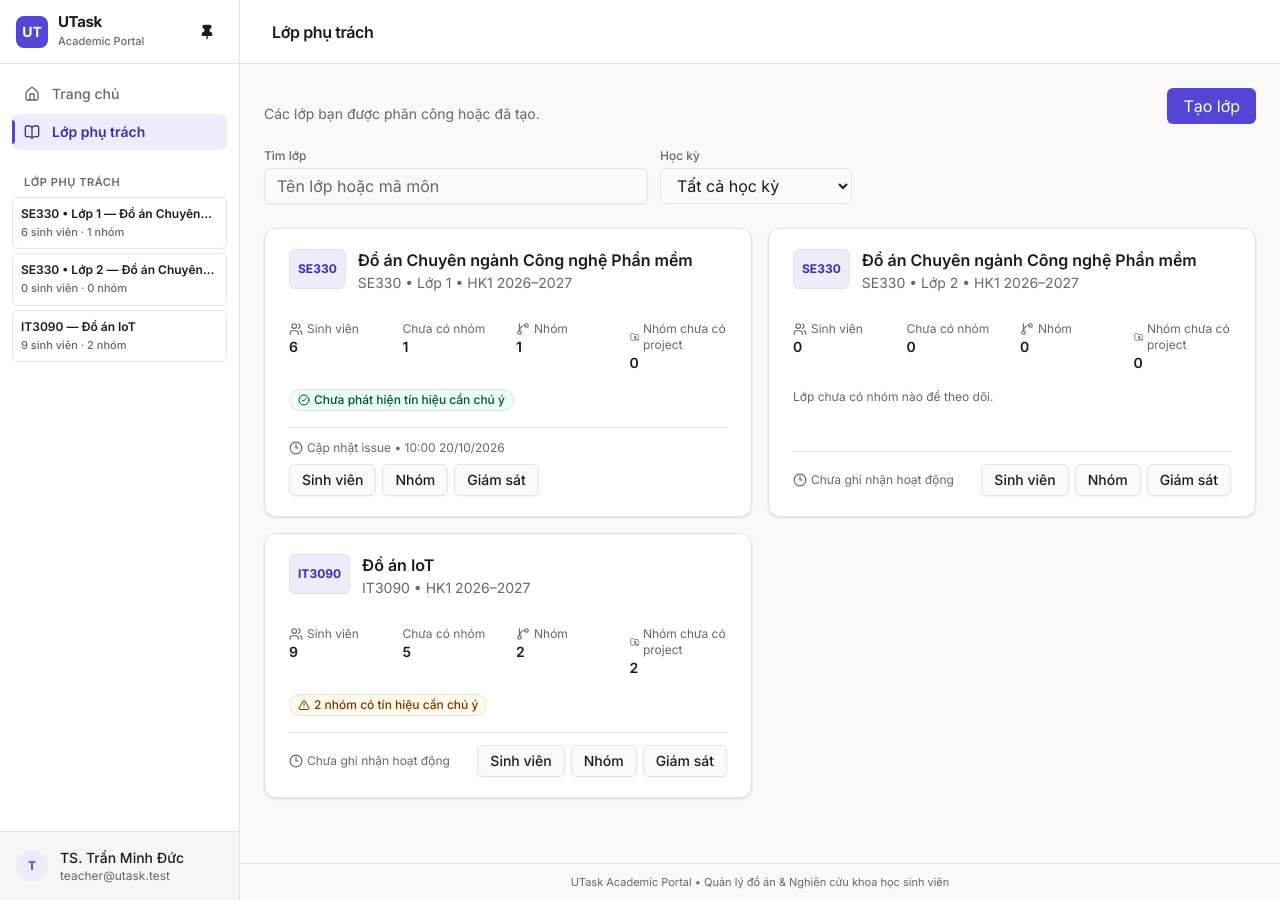
Test: Create class dialog (T03, demo mode) › closes with Hủy and stays on the same page
Click the button "Tạo lớp" at (1212, 106), box x1=1167 y1=88 x2=1256 y2=124
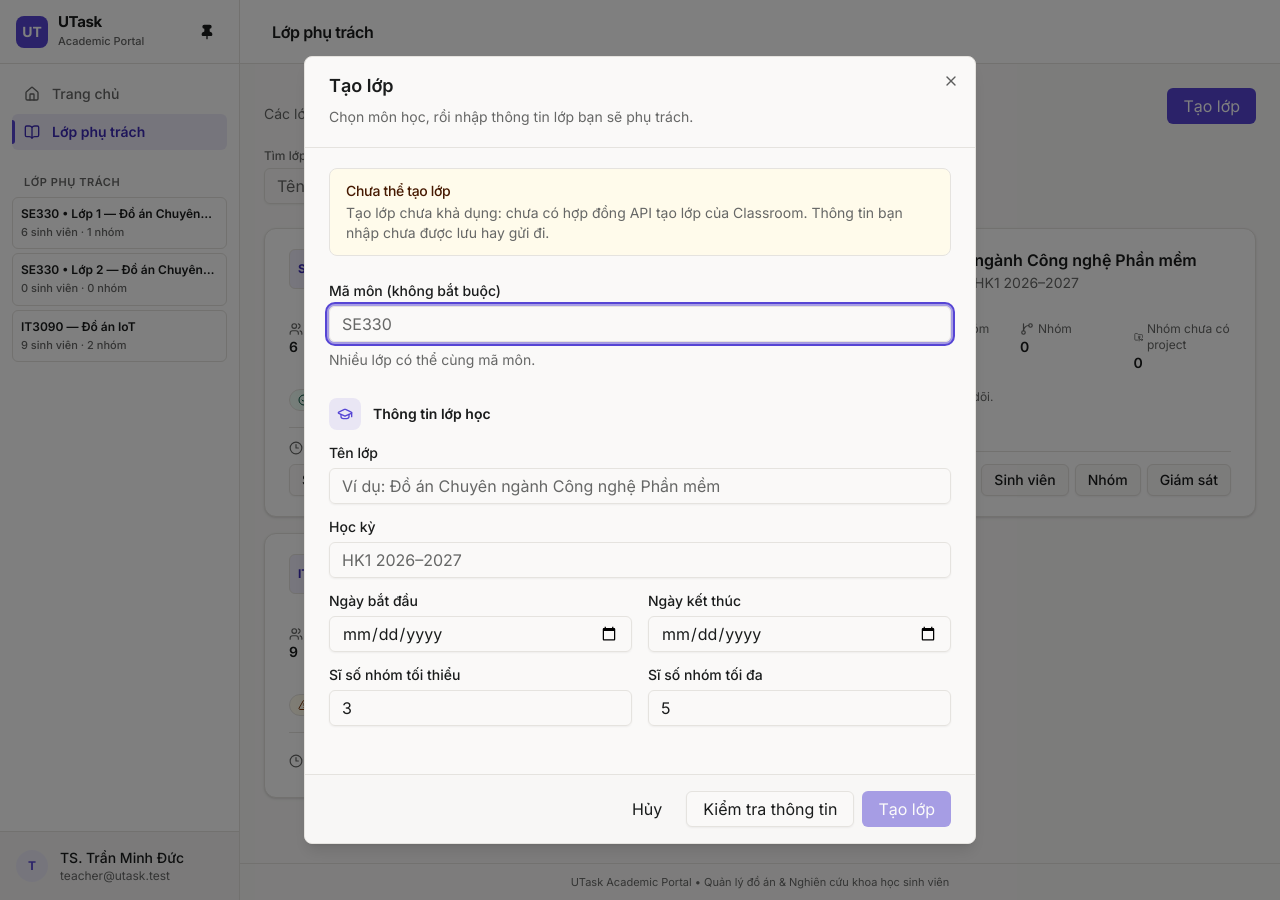
Type "Dở dang" into the field labelled "Tên lớp" at (640, 486), box x1=329 y1=468 x2=951 y2=504
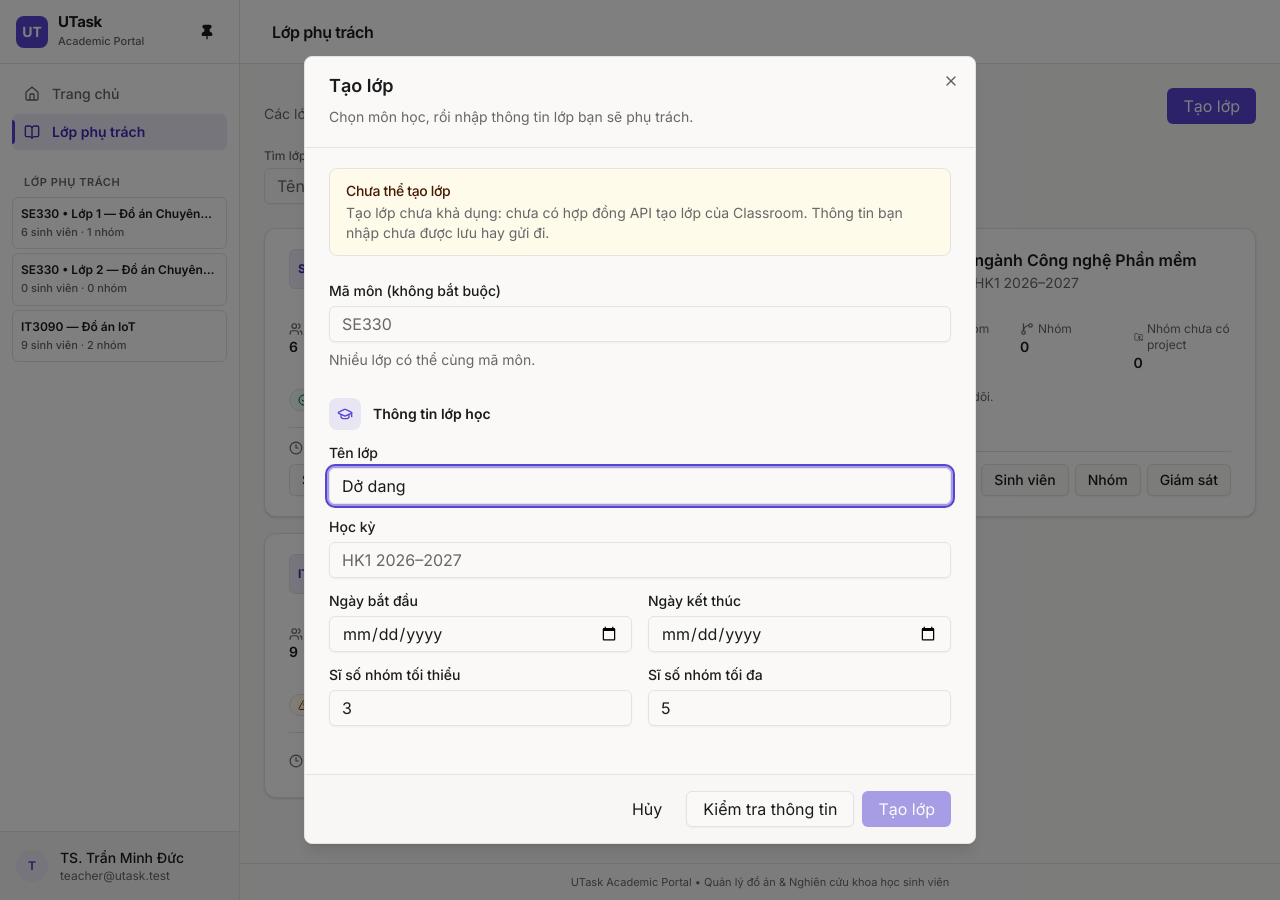
Click the button "Hủy" at (647, 809), box x1=616 y1=791 x2=678 y2=827
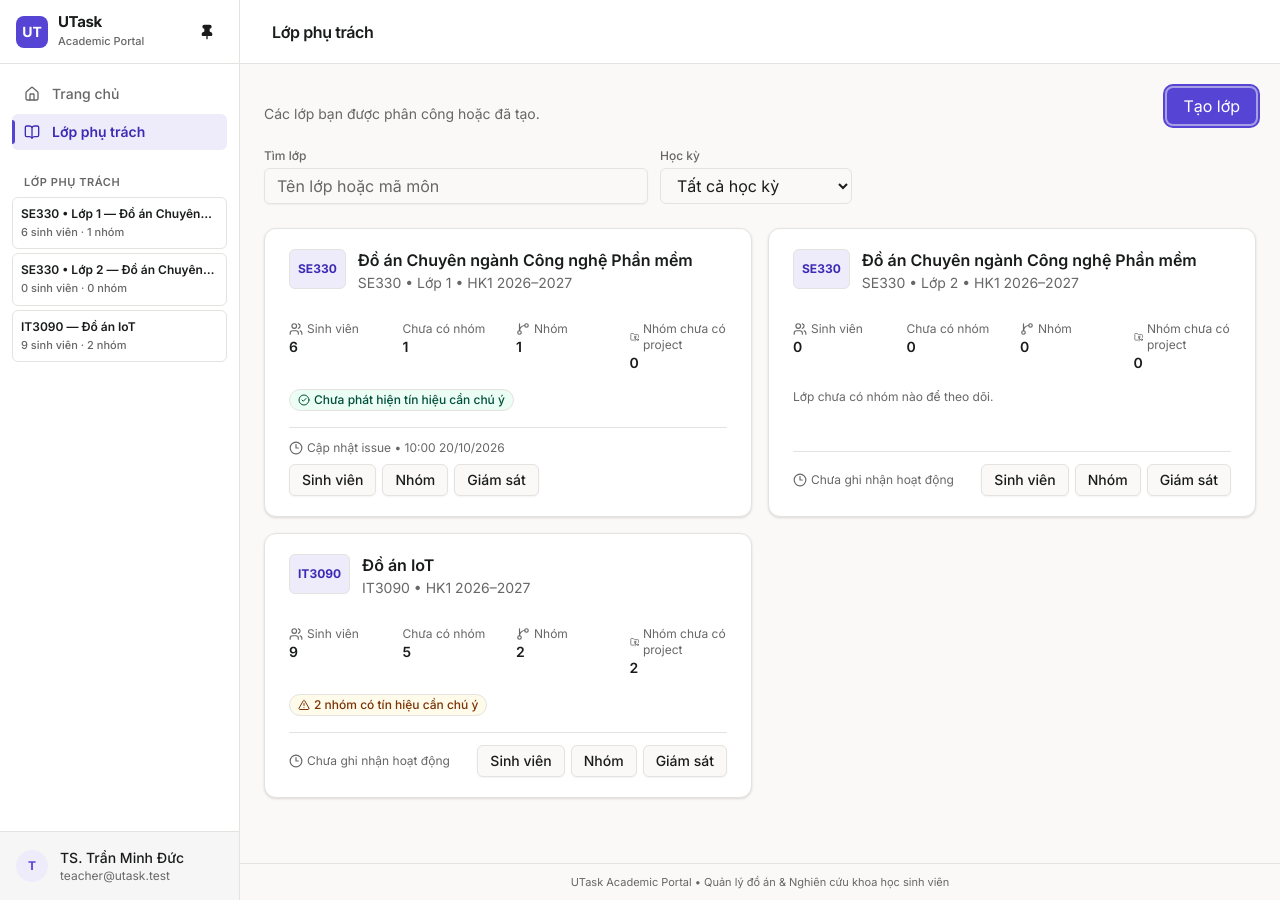
Now the dialog is gone
